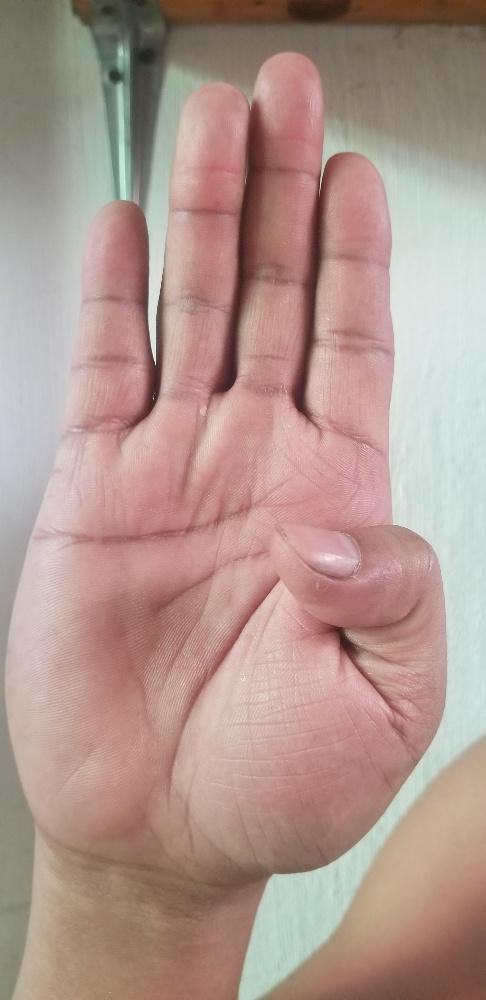b: (0, 45, 452, 874)
